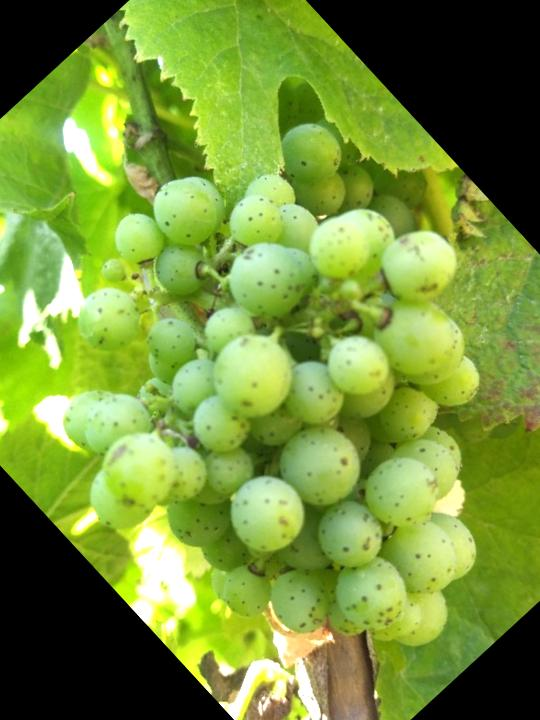grape: (0, 64, 540, 720)
